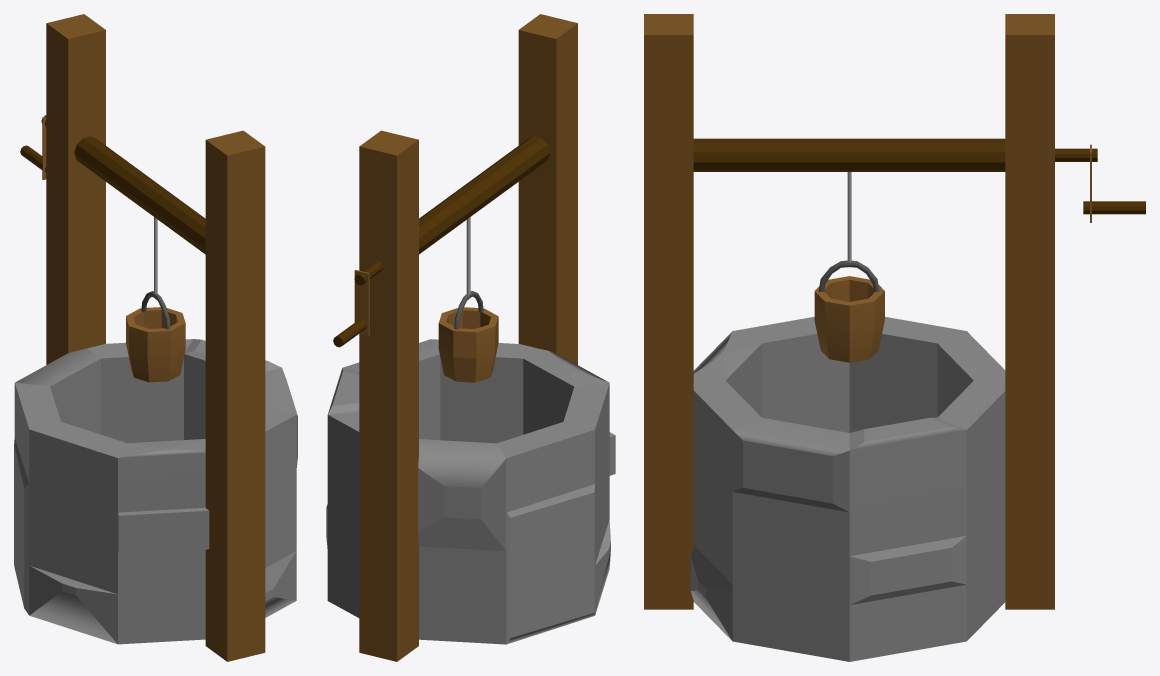
The model's file is Puit.fbx.
3 renders of one model, left to right at view 1: azimuth 30°, elevation 25°; view 2: azimuth 150°, elevation 25°; view 3: azimuth 270°, elevation 25°, orthographic. The views are drawn at different scales.
Parts seen in each view (by area): view 1: pCylinder8; view 2: pCylinder8; view 3: pCylinder8.
Boxes of the visible parts, bbox=[...] form: pCylinder8: bbox=[14, 14, 297, 661]; pCylinder8: bbox=[326, 14, 615, 661]; pCylinder8: bbox=[644, 14, 1145, 661].
Size of the model in its own units: 4.3 by 8.15 by 6.45.
